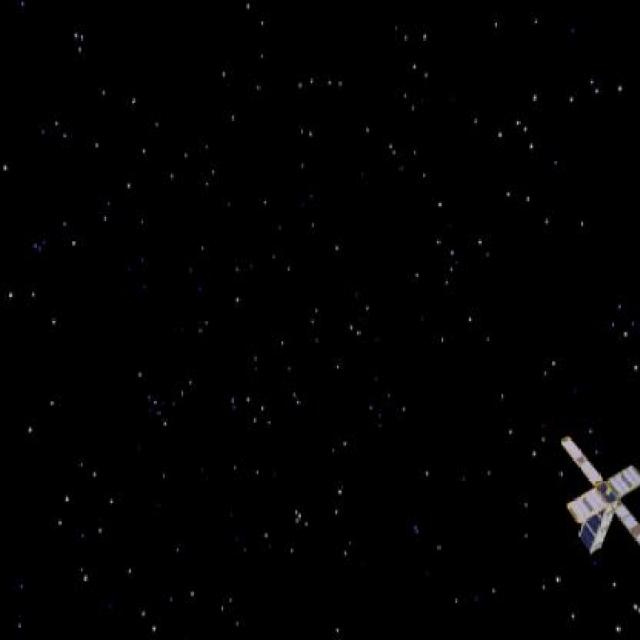medium_debris: (550, 434, 640, 556)
